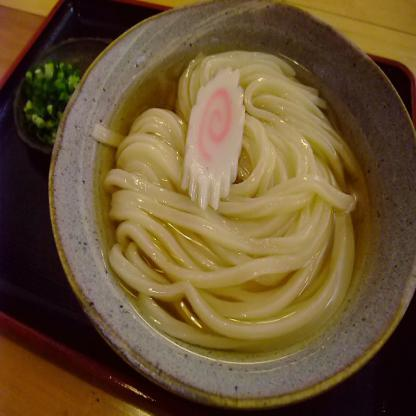Noodles: (92, 50, 366, 354)
